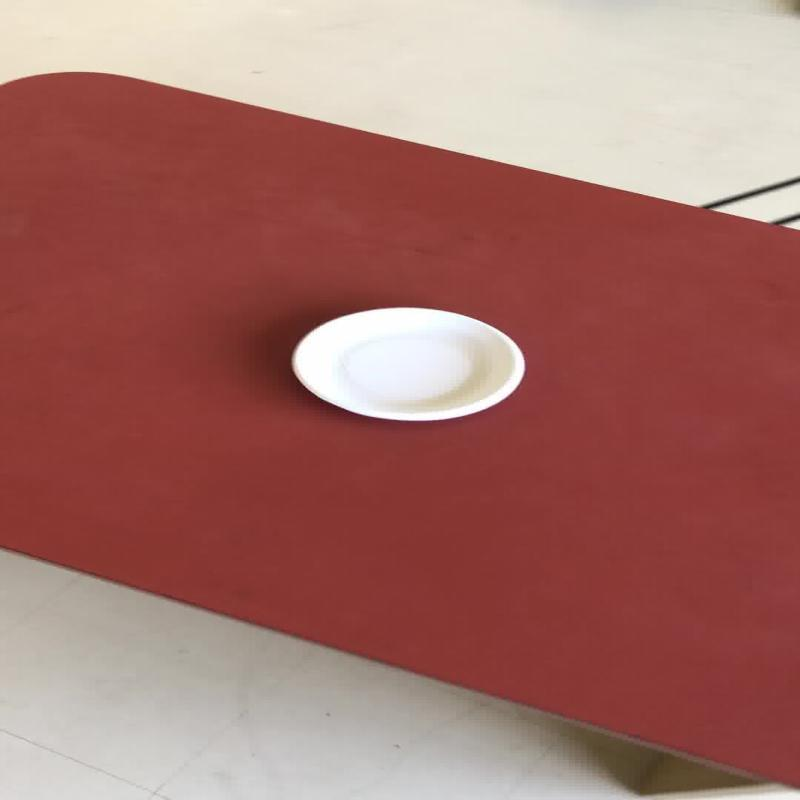plate: (289, 306, 524, 422)
